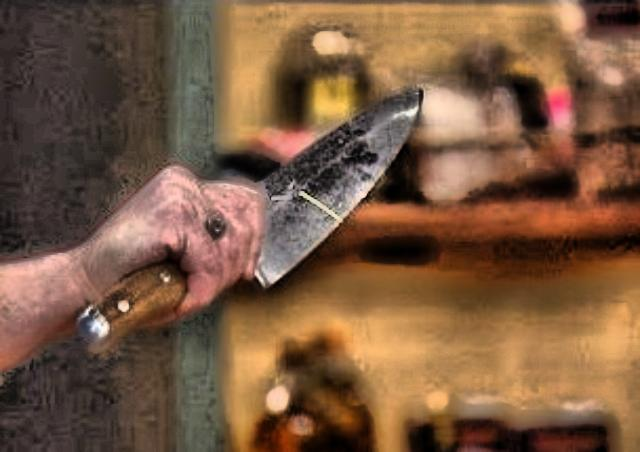knife: (181, 72, 431, 314)
